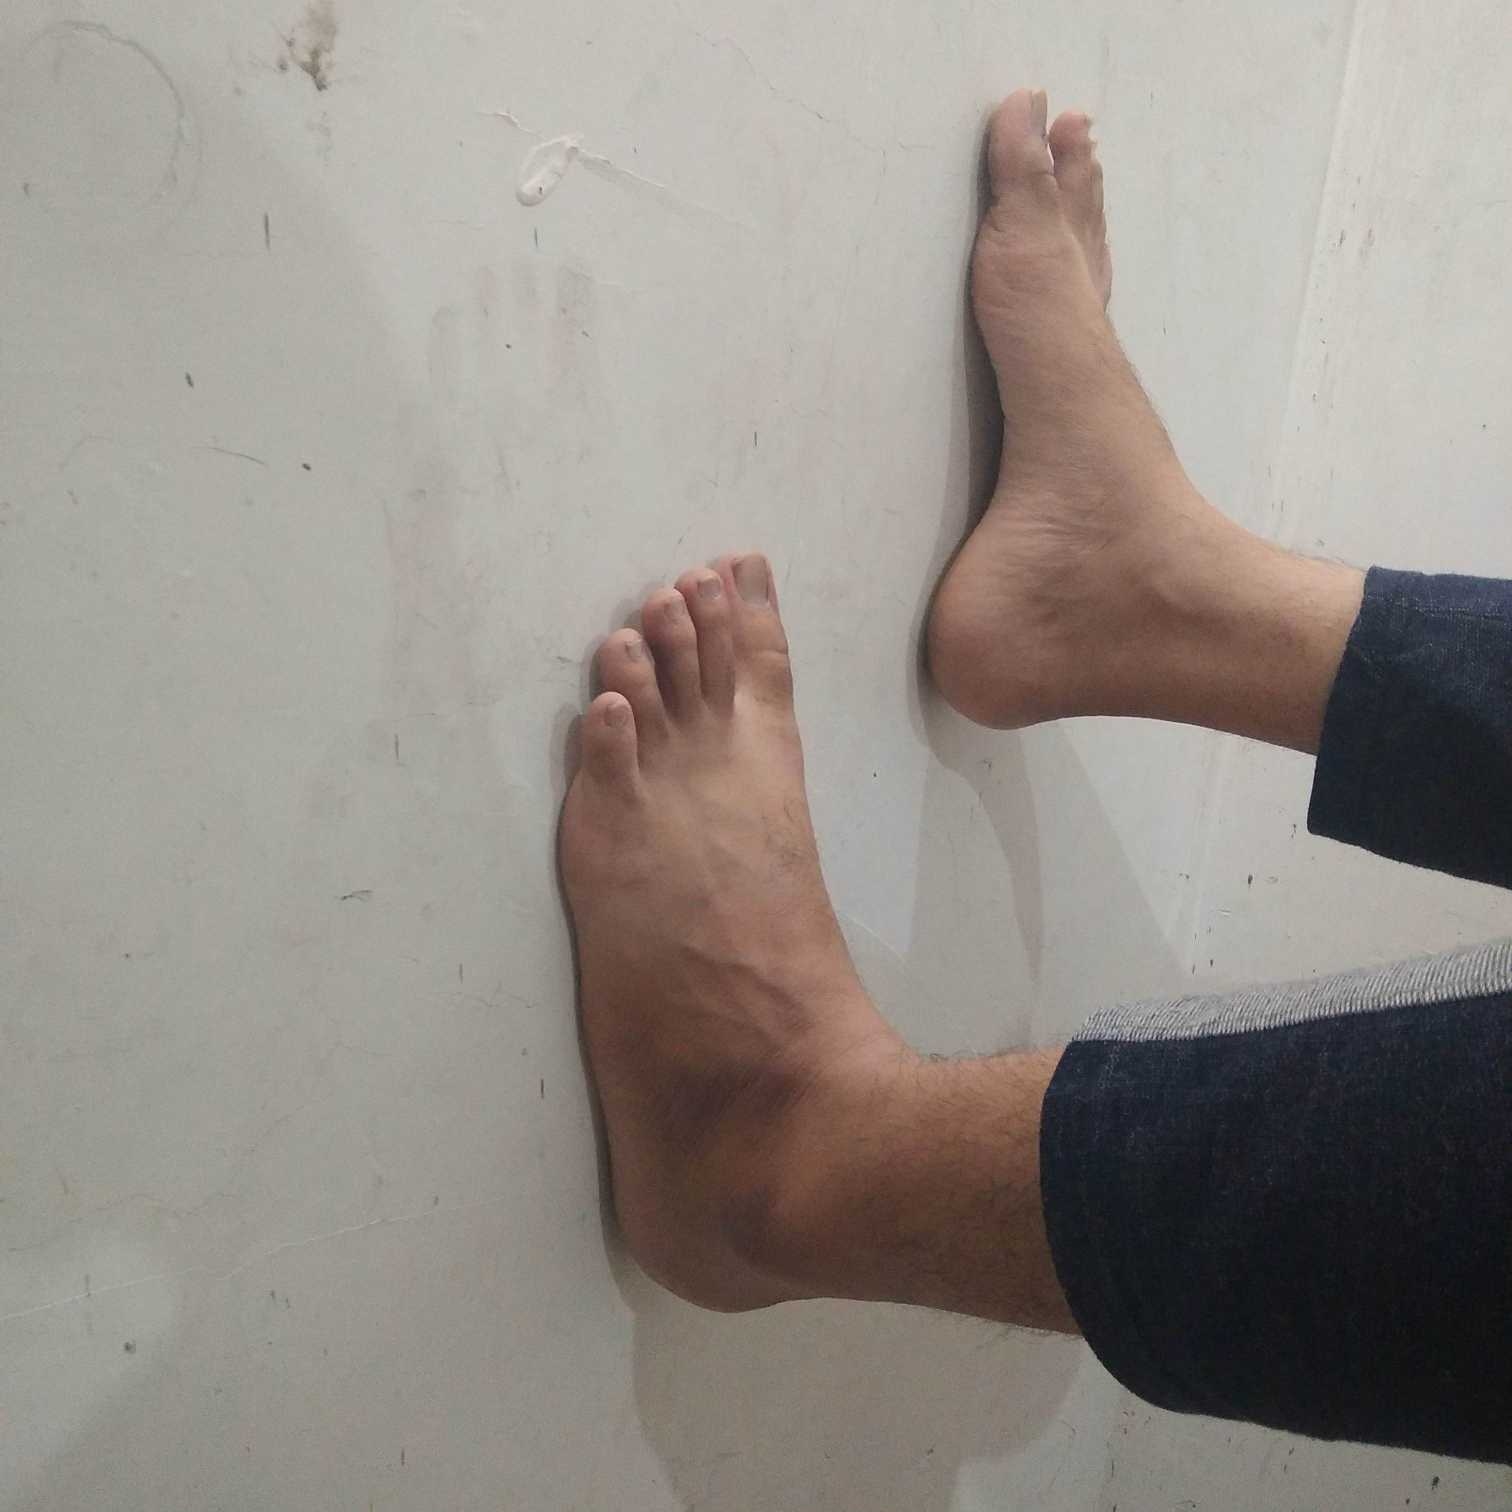foot: (557, 536, 865, 1315), (907, 84, 1170, 732)
